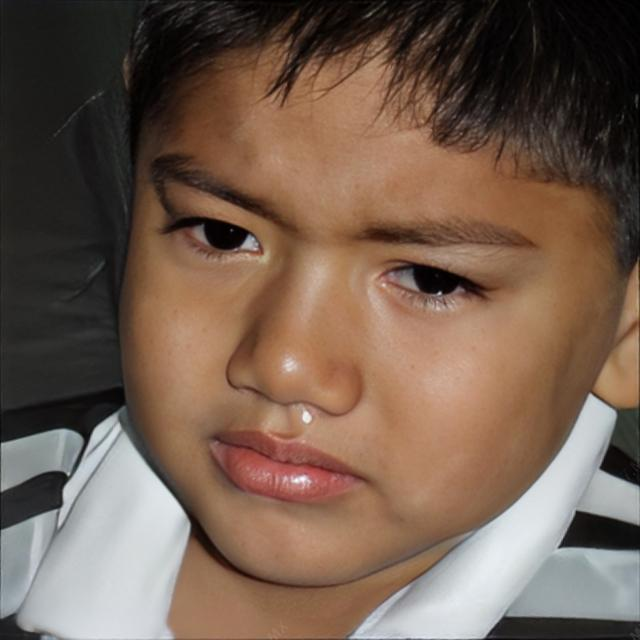sad: (120, 49, 626, 592)
